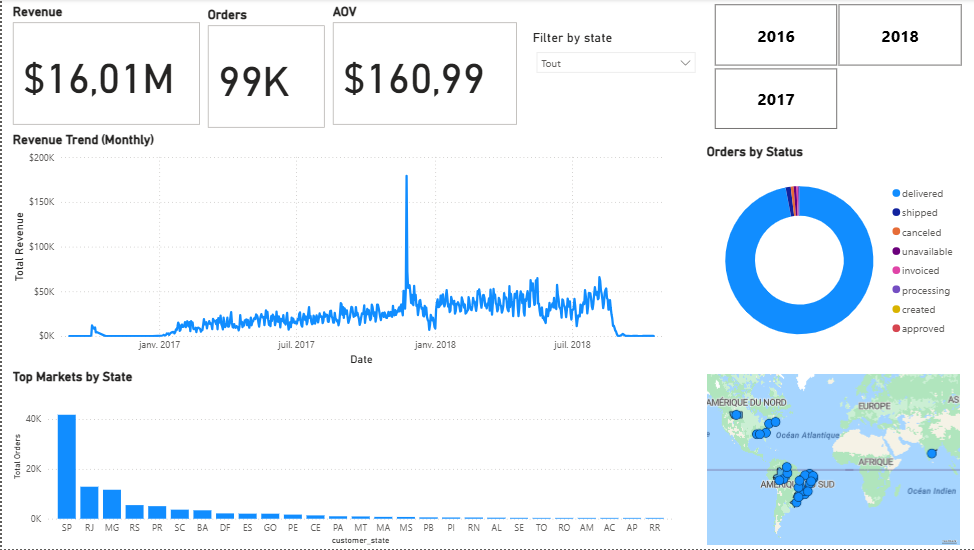

What the dashboard file says about the page in this screenshot:
{"tool":"powerbi","page":{"name":"Page 1","canvas":[1280,720],"ordinal":0},"visuals":[{"type":"cardVisual","title":"Revenue","fields":{"Data":["Fact_Sales.Total Revenue"]},"box":[9.2,10.5,255.3,163.6],"z":0},{"type":"cardVisual","title":"Orders","fields":{"Data":["Fact_Sales.Total Orders"]},"box":[264.4,10.5,163.6,163.6],"z":1000},{"type":"cardVisual","title":"AOV","fields":{"Data":["Fact_Sales.AOV"]},"box":[428.1,10.5,251.3,163.6],"z":2000},{"type":"lineChart","title":"Revenue Trend (Monthly)","fields":{"Y":["Fact_Sales.Total Revenue"],"Category":["Dim_Date.Date"]},"box":[9.2,174.1,873.2,310.3],"z":3000},{"type":"columnChart","title":"Top Markets by State","fields":{"Category":["Fact_Sales.customer_state"],"Y":["Fact_Sales.Total Orders"]},"box":[9,485,874,235],"z":4000},{"type":"slicer","fields":{"Values":["Dim_Date.Date.Variation.Hiérarchie de dates.Année"]},"box":[907.2,0,373,177.1],"z":5000},{"type":"slicer","title":"Filter by state","fields":{"Values":["Fact_Sales.customer_state"]},"box":[689.8,40.3,227.5,82.1],"z":6000},{"type":"donutChart","title":"Orders by Status","fields":{"Category":["Fact_Sales.order_status"],"Y":["Fact_Sales.Total Orders"]},"box":[917.3,190.1,341.3,285.1],"z":7000},{"type":"azureMap","title":"Top Markets by State","fields":{"Category":["Fact_Sales.customer_state"]},"box":[917.1,485.7,341.4,234.3],"z":8000}]}

Visuals, with their boxes in screenshot pixels (x1, y1, x2, y2), scaled from the page's 1280x720 canvas onto the 974x550 screenshot:
"Revenue" cardVisual: region(7, 8, 201, 133)
"Orders" cardVisual: region(201, 8, 326, 133)
"AOV" cardVisual: region(326, 8, 517, 133)
"Revenue Trend (Monthly)" lineChart: region(7, 133, 671, 370)
"Top Markets by State" columnChart: region(7, 370, 672, 549)
slicer - Dim_Date.Date.Variation.Hiérarchie de dates.Année: region(690, 0, 973, 135)
"Filter by state" slicer: region(525, 31, 698, 93)
"Orders by Status" donutChart: region(698, 145, 958, 363)
"Top Markets by State" azureMap: region(698, 371, 958, 549)
